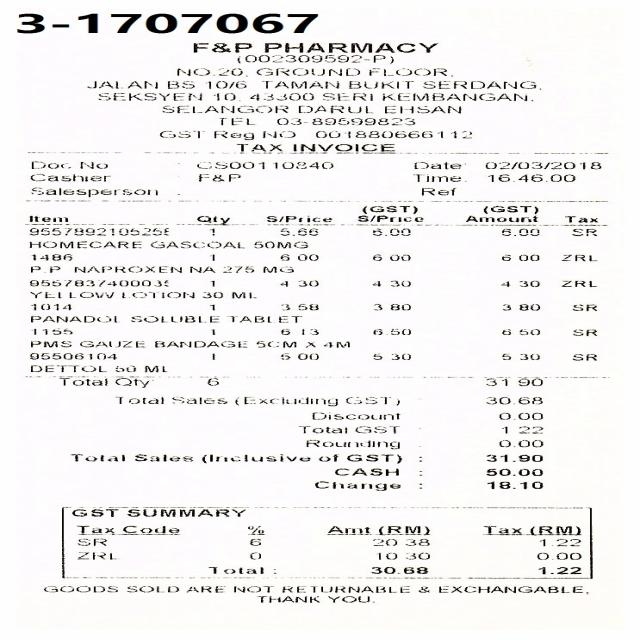text: (16, 13, 316, 33), (262, 42, 435, 52), (29, 187, 157, 197), (236, 55, 392, 63), (312, 130, 468, 138), (380, 92, 530, 100), (438, 586, 586, 594), (233, 395, 336, 405), (160, 104, 287, 112), (28, 228, 170, 235), (420, 81, 538, 89), (198, 454, 309, 462), (303, 439, 398, 448), (96, 92, 200, 100), (288, 144, 392, 152), (125, 509, 243, 516), (325, 526, 428, 534), (28, 280, 165, 286), (276, 118, 412, 124), (313, 481, 398, 490), (280, 586, 407, 592), (255, 68, 358, 75), (484, 162, 600, 168), (366, 68, 451, 76), (29, 314, 114, 322), (29, 241, 140, 247), (28, 173, 108, 181), (154, 340, 245, 347), (73, 266, 179, 272), (259, 80, 337, 88), (383, 104, 460, 112), (311, 412, 399, 419), (486, 174, 573, 181), (192, 42, 251, 52), (296, 104, 369, 112), (28, 290, 111, 297), (148, 241, 242, 247), (85, 80, 155, 88), (344, 453, 400, 463), (176, 68, 244, 76), (265, 214, 332, 222), (129, 315, 218, 321), (29, 365, 105, 372), (347, 80, 412, 88), (249, 92, 313, 100), (464, 214, 537, 221), (121, 290, 193, 297), (482, 377, 541, 385), (355, 214, 422, 221), (133, 452, 190, 460), (205, 566, 262, 574), (369, 566, 426, 574), (77, 340, 142, 347), (482, 205, 538, 213), (483, 453, 539, 461), (483, 467, 539, 475), (122, 524, 178, 532), (332, 467, 395, 474), (270, 161, 332, 168), (361, 205, 415, 213), (229, 315, 301, 321), (42, 586, 114, 592), (345, 396, 398, 404), (526, 526, 578, 534), (194, 162, 263, 168), (322, 92, 372, 100), (57, 377, 107, 385), (483, 396, 539, 403), (170, 396, 226, 403), (484, 481, 540, 488), (69, 508, 118, 516), (74, 524, 112, 534), (234, 144, 281, 152), (69, 453, 122, 460), (256, 596, 317, 602), (158, 130, 202, 138), (536, 566, 580, 574), (213, 130, 252, 139), (298, 425, 346, 432), (538, 538, 580, 546), (112, 377, 149, 386), (412, 174, 459, 181), (196, 173, 237, 181), (28, 352, 82, 358), (352, 425, 398, 432), (534, 552, 580, 559), (500, 228, 540, 236), (252, 241, 305, 247), (482, 526, 521, 534), (498, 439, 542, 446), (125, 586, 176, 592), (217, 117, 254, 125), (24, 214, 66, 221), (419, 187, 455, 195), (112, 396, 160, 402), (204, 81, 245, 88), (29, 303, 70, 310), (29, 339, 70, 346), (413, 162, 460, 168), (278, 227, 318, 234), (254, 340, 294, 347), (500, 425, 540, 432), (325, 596, 371, 602), (30, 161, 69, 168), (369, 228, 408, 235), (74, 552, 113, 559), (259, 130, 292, 138), (498, 413, 542, 419), (30, 253, 71, 259), (560, 253, 595, 260), (561, 214, 595, 221), (32, 328, 71, 334), (193, 215, 226, 222), (279, 353, 317, 359), (233, 586, 270, 592), (186, 586, 222, 592), (560, 280, 595, 286), (164, 81, 193, 88), (75, 538, 104, 545), (570, 228, 595, 236), (78, 161, 106, 168), (29, 266, 59, 272), (221, 266, 251, 272), (212, 92, 234, 100), (402, 552, 427, 559), (262, 266, 291, 272), (246, 524, 263, 534), (571, 304, 595, 311), (320, 341, 348, 347), (88, 353, 115, 359), (316, 452, 336, 460), (369, 539, 394, 545), (402, 539, 427, 545), (296, 253, 317, 260), (296, 303, 317, 310), (143, 365, 164, 372), (188, 266, 212, 272), (229, 291, 253, 297), (571, 353, 595, 359), (388, 253, 408, 260), (518, 254, 538, 261), (388, 279, 408, 286), (200, 290, 220, 297), (388, 303, 408, 310), (518, 328, 538, 335), (388, 328, 408, 335), (374, 552, 394, 559), (572, 329, 595, 335), (296, 280, 317, 286), (518, 280, 538, 286), (518, 304, 538, 310), (518, 353, 538, 359), (113, 366, 133, 372), (390, 352, 408, 358), (204, 377, 217, 385), (299, 328, 315, 334), (369, 327, 382, 334), (247, 552, 260, 559), (370, 303, 382, 310), (247, 539, 260, 545), (497, 280, 509, 286), (277, 253, 287, 260), (278, 303, 288, 310), (370, 353, 381, 359), (499, 253, 508, 260), (499, 327, 508, 334), (277, 280, 287, 286), (416, 586, 426, 592), (500, 303, 508, 310), (278, 328, 287, 334), (303, 341, 312, 347), (499, 353, 508, 359), (206, 228, 213, 235), (371, 253, 378, 260), (370, 280, 378, 286), (208, 253, 214, 260), (208, 353, 214, 359), (209, 303, 214, 310), (209, 280, 214, 286), (210, 329, 214, 335)
